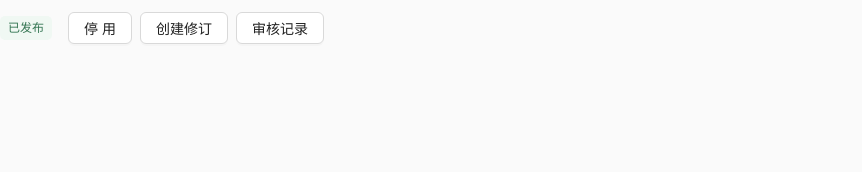
preserves the last state when the action succeeds but its refresh fails
Click the button "创建修订": coordinates (184, 28) [140,12,228,44]
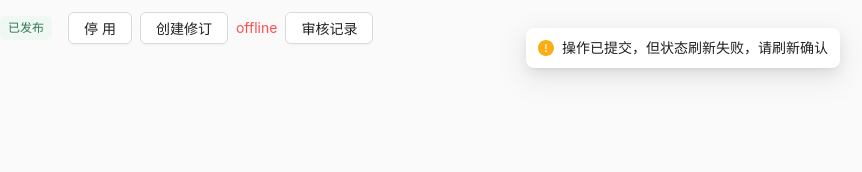
Expected: the text "已发布" is shown, [0,16,52,40]
Now the text "操作已提交，但状态刷新失败，请刷新确认" is shown, box [562,37,828,59]
